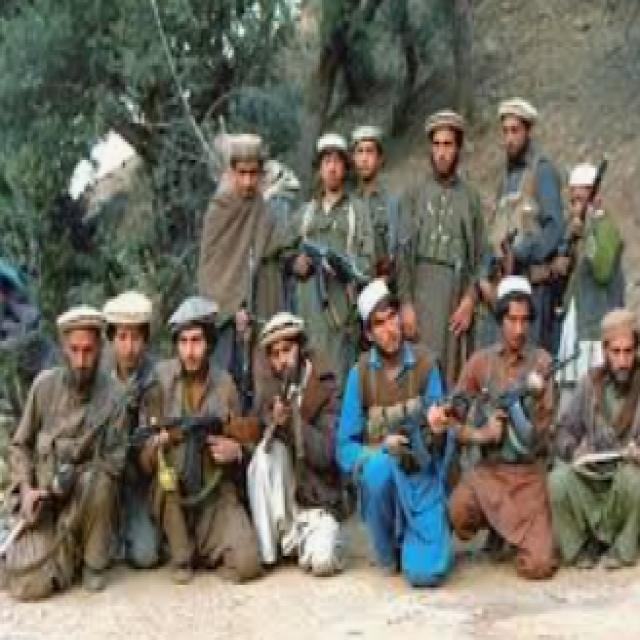terrorist: (427, 275, 581, 580), (0, 304, 127, 598), (336, 278, 455, 585), (142, 296, 260, 580), (197, 134, 291, 422), (469, 97, 569, 366), (395, 108, 494, 378), (244, 315, 345, 578), (549, 307, 640, 566), (295, 131, 373, 386), (103, 291, 168, 567), (556, 160, 625, 382), (351, 126, 390, 273)
